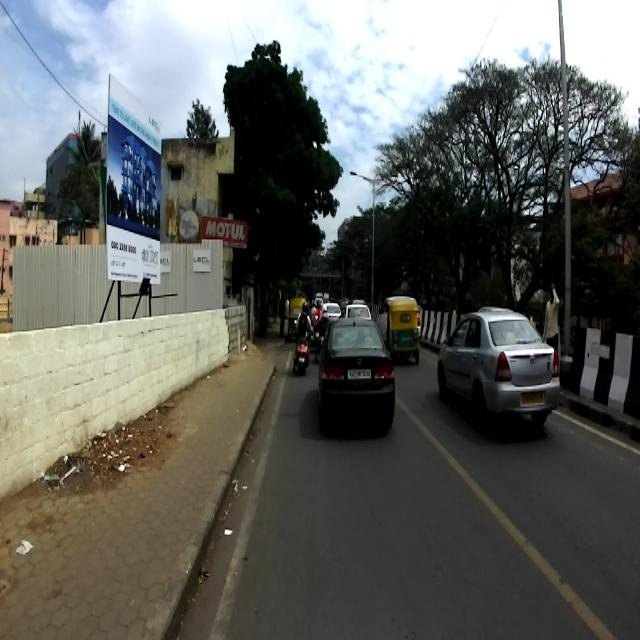Car_Honda: (316, 316, 396, 432)
Car_Toyota: (437, 311, 560, 429)
scooter: (294, 318, 310, 378)
